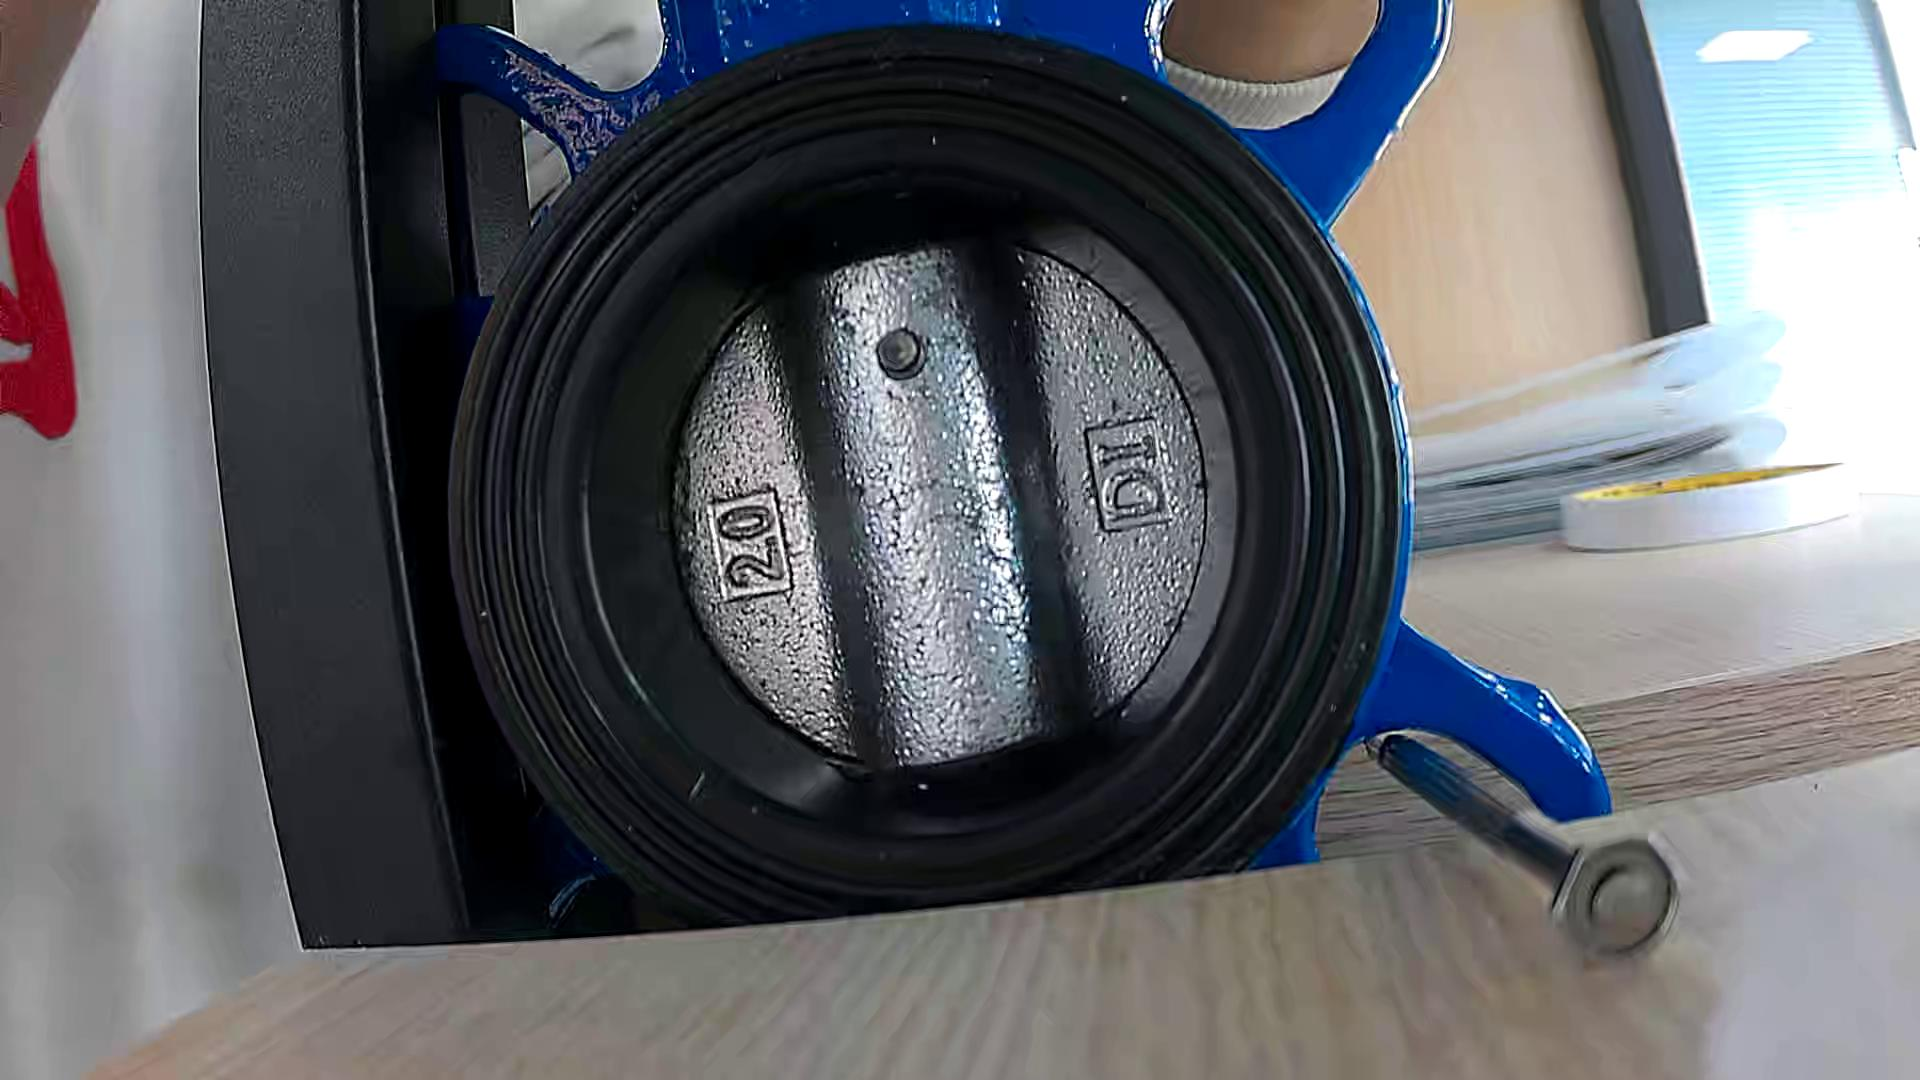valve: (671, 236, 1208, 769)
